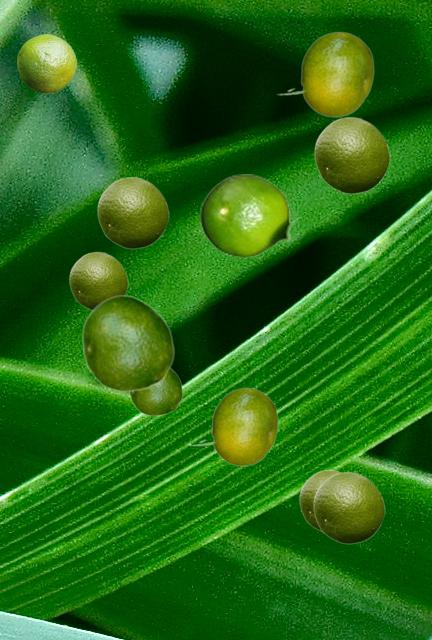calamansi: (81, 294, 174, 391), (199, 174, 300, 257), (276, 31, 373, 116), (189, 387, 277, 465), (314, 116, 389, 193), (97, 176, 168, 248), (313, 471, 384, 543), (69, 251, 127, 310), (17, 34, 75, 92), (299, 469, 340, 532), (128, 368, 182, 415)
